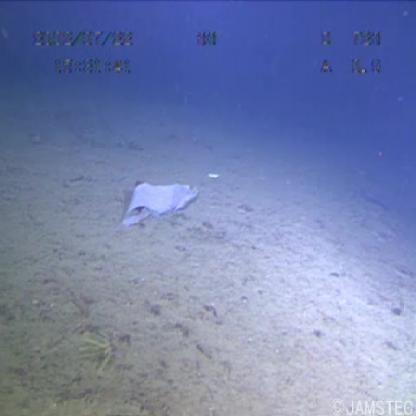Rác: (111, 171, 208, 230)
